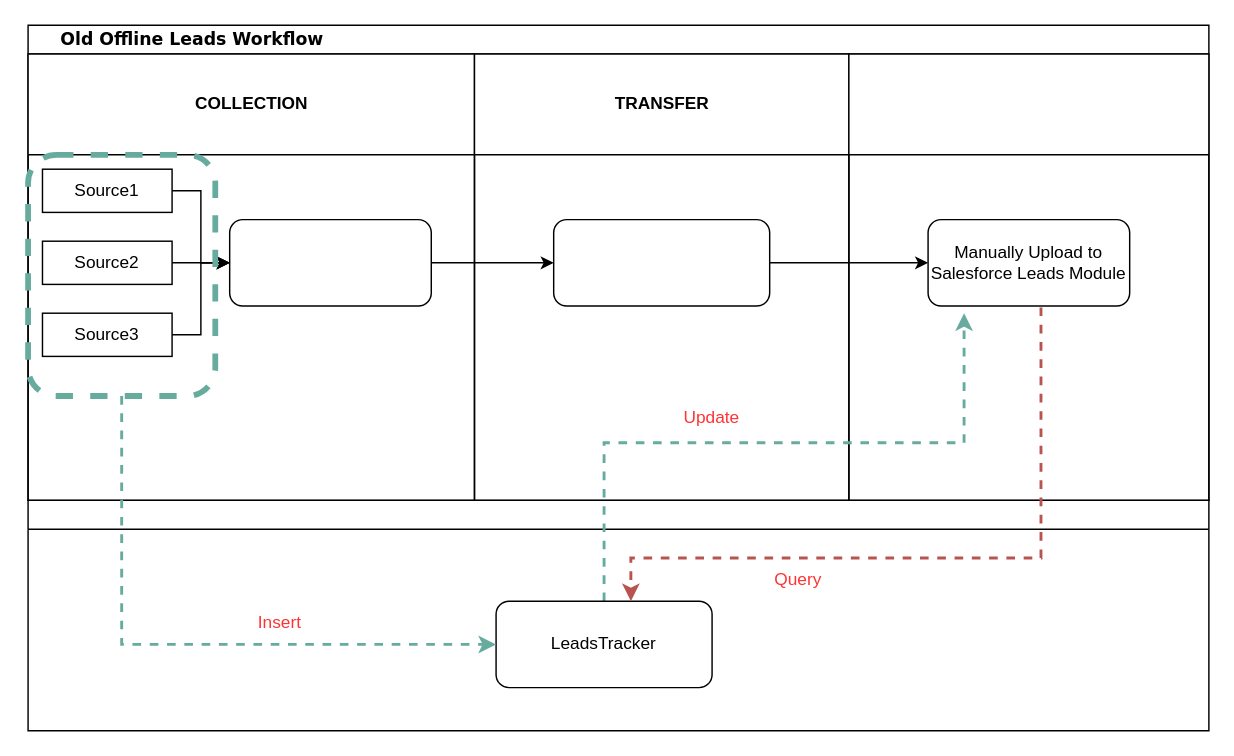
This 1234x756 diagram has some shape labels left out. Each missing label, with the box of its shape:
Manually Transfer to Leads Central Team: (552, 218, 770, 306)
NEW Workflow: (27, 499, 1209, 731)
Offline Leads Manual Collection Table (Excel): (228, 218, 431, 306)
UPLOADING: (847, 53, 1209, 500)
